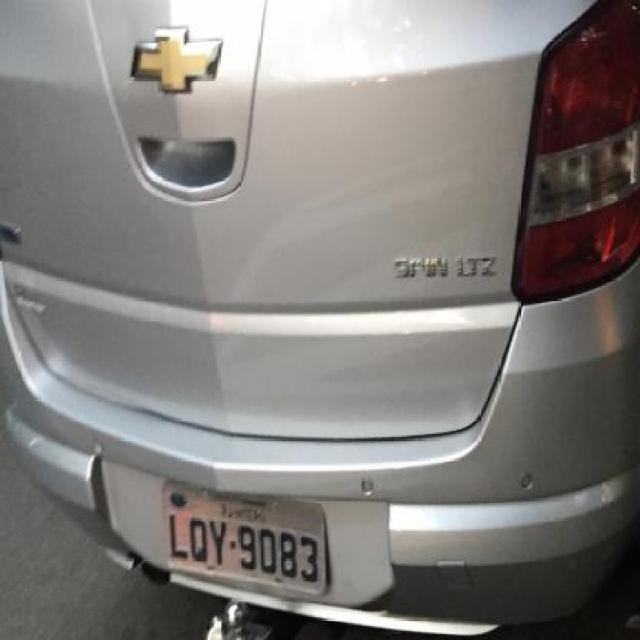old_plate: (154, 475, 339, 606)
